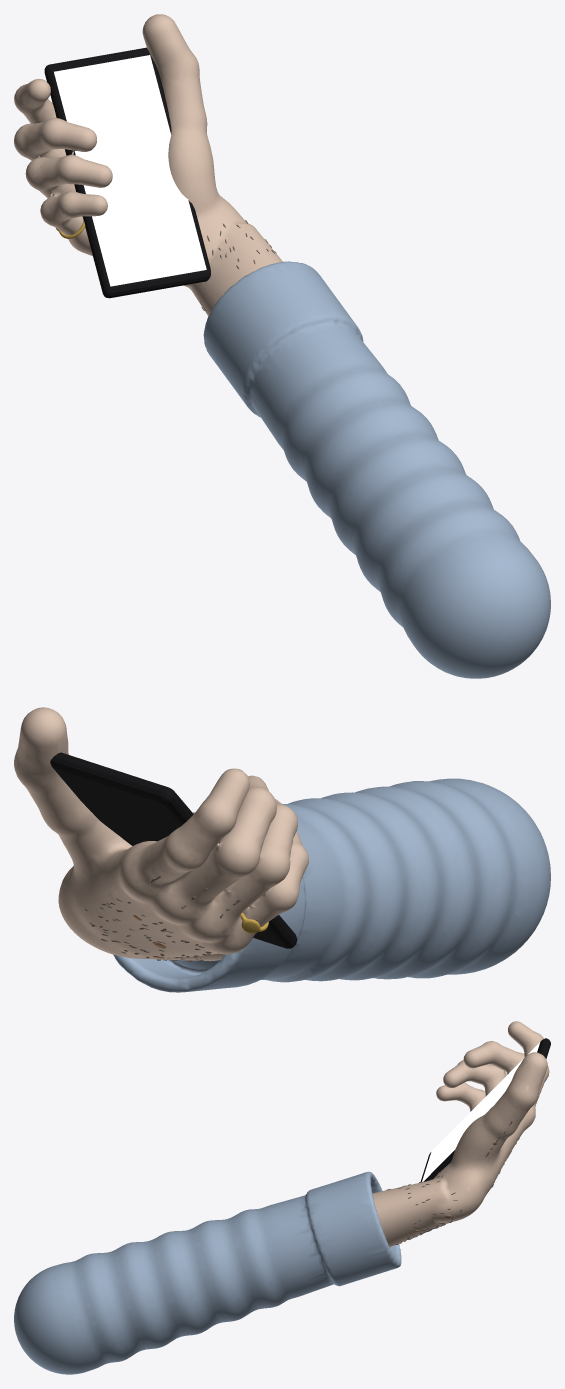
The model's file is gary_right_phone.glb.
3 renders of one model, top to bottom at view 1: azimuth 30°, elevation 25°; view 2: azimuth 150°, elevation 25°; view 3: azimuth 270°, elevation 25°, orthographic. The views are drawn at different scales.
Visible parts, largest first — view 1: gary_right_phone, phone_screen, phone; view 2: gary_right_phone, phone, gary_right_phone_detail; view 3: gary_right_phone, phone_screen, gary_right_phone_detail, phone.
Part boxes in pixels (x1,y1,x2,y2): gary_right_phone: (14,14,550,678); phone_screen: (54,55,206,286); phone: (44,47,210,298); gary_right_phone: (14,707,550,992); phone: (50,752,297,948); gary_right_phone_detail: (85,875,268,961); gary_right_phone: (14,1021,549,1374); phone_screen: (422,1042,540,1181); gary_right_phone_detail: (386,1097,538,1245); phone: (420,1038,550,1181).
Bounding box in the file's own units: 0.1602 × 0.2886 × 0.4454.
